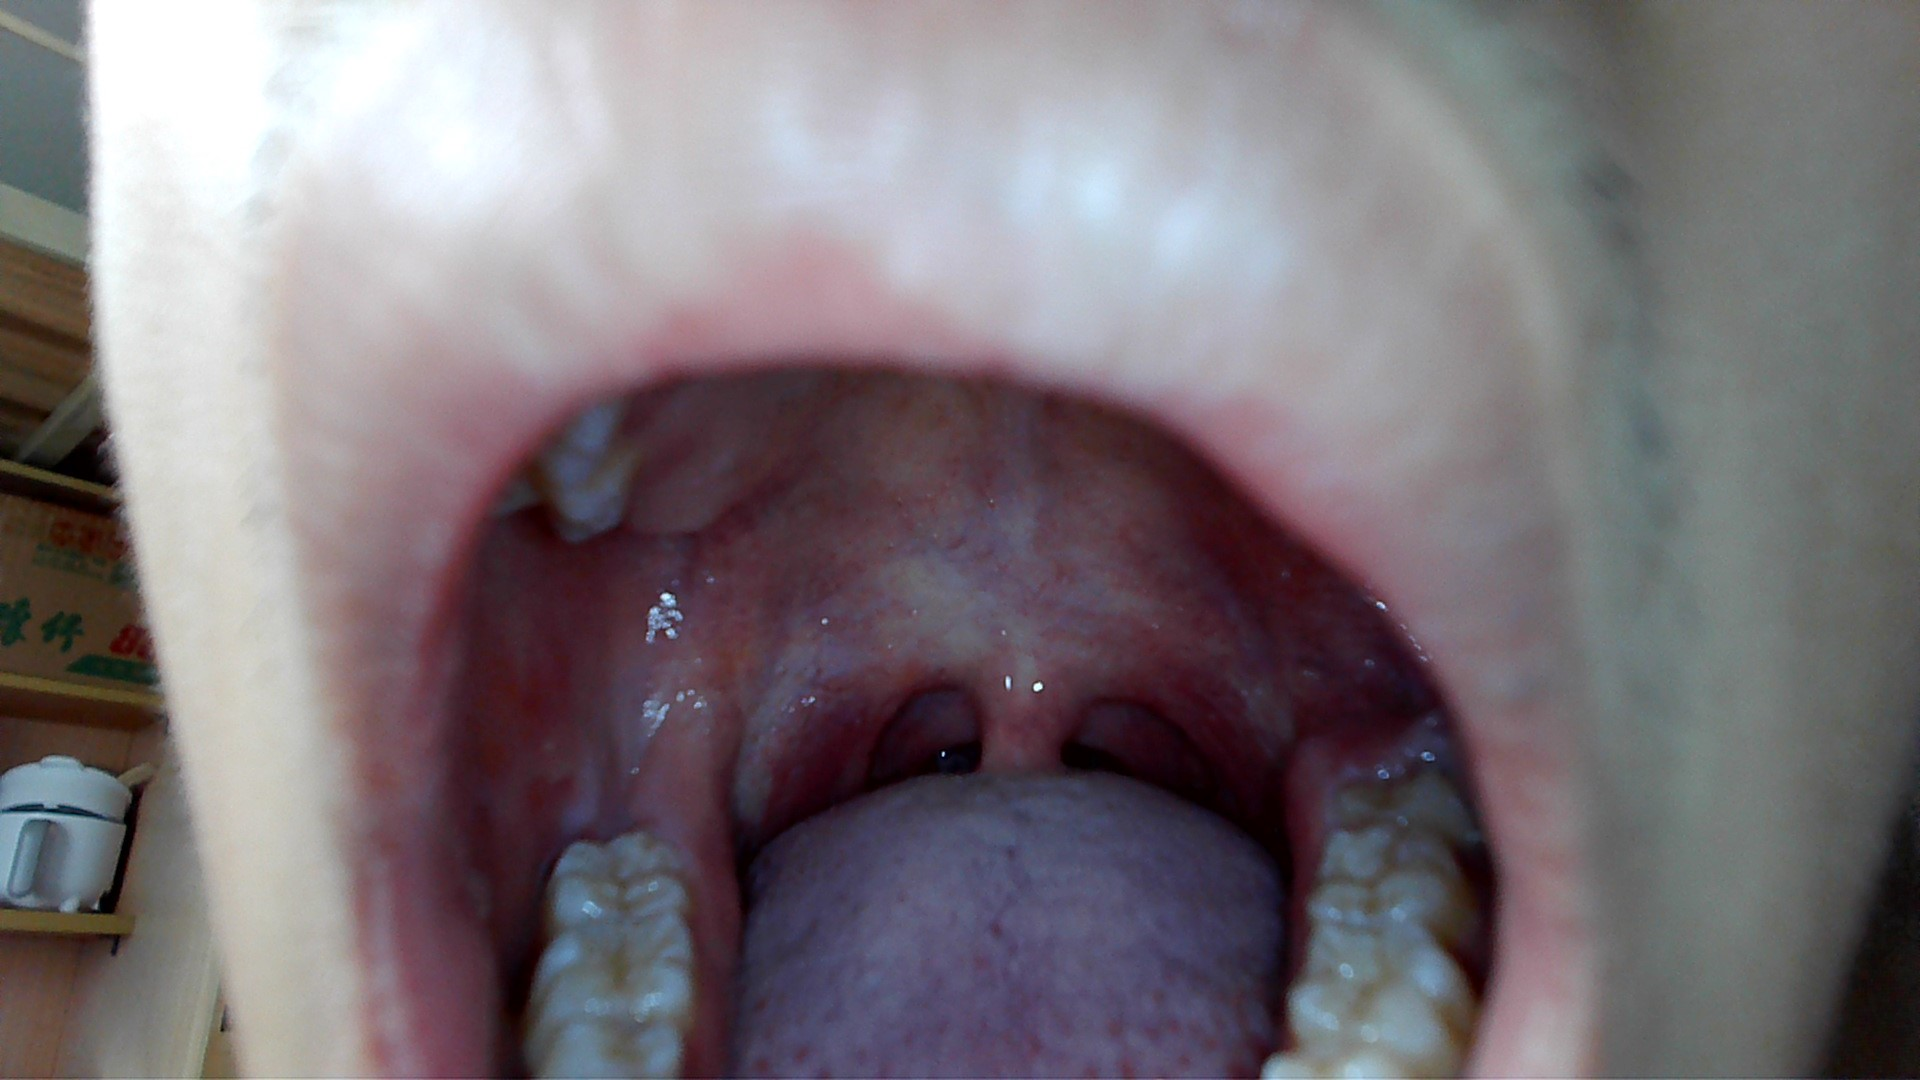throat: (1142, 655, 1246, 796), (825, 644, 930, 785)
